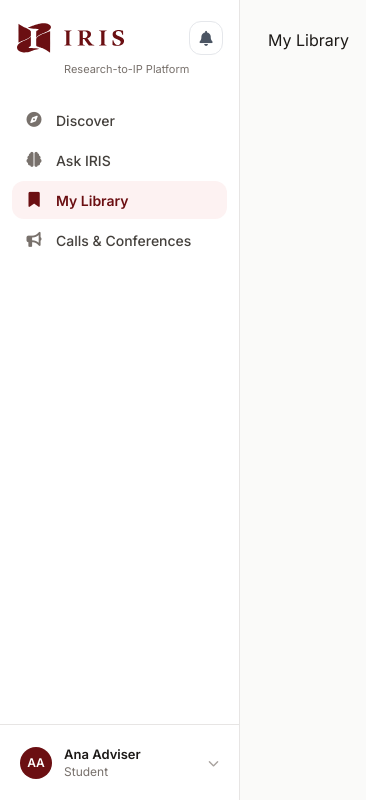
Test case: the account menu › closes on Escape and gives focus back to its button
The width and height of the screenshot is (366, 800).
Step 1. Click the button with aria-label "account menu" → (120, 762), box [12, 737, 227, 788]
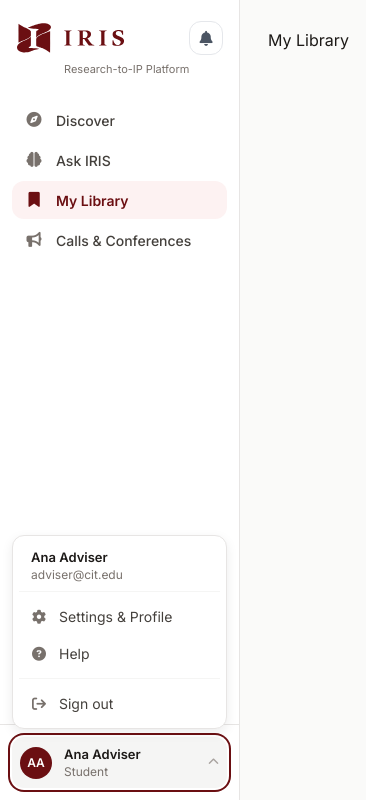
Step 2. Press Escape
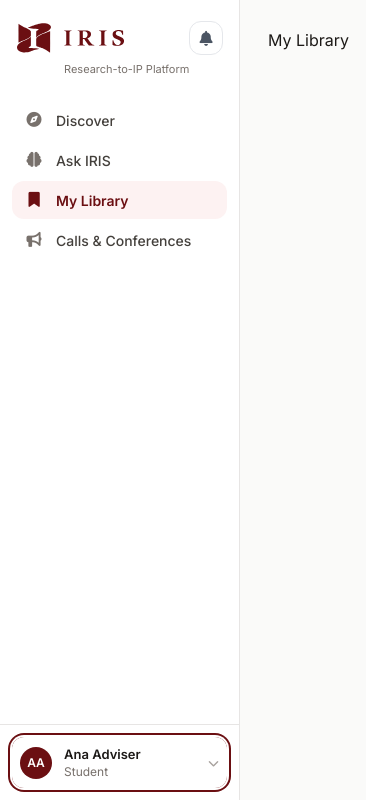
Now the button "Sign out" is gone
